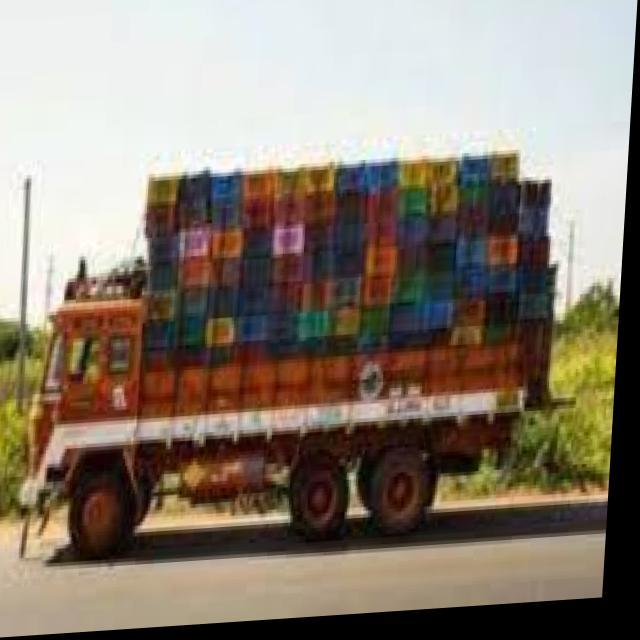uncovered: (25, 156, 562, 568)
